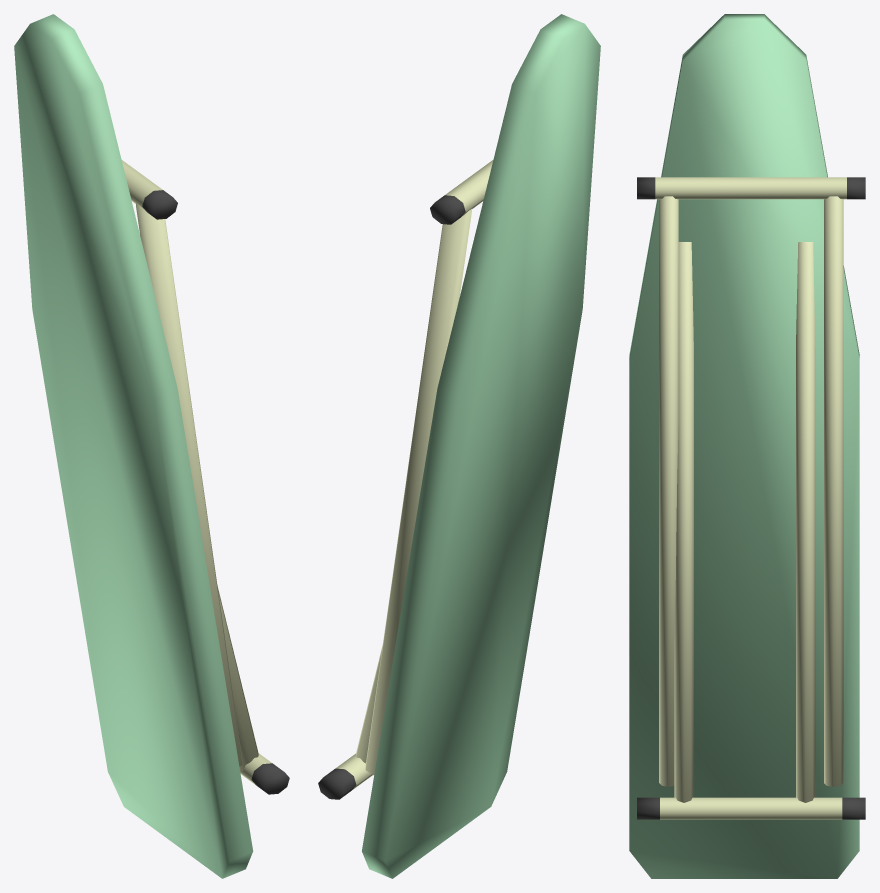
The model's file is K_Iron.glb.
The picture shows the model from 3 angles, left to right: view 1: azimuth 30°, elevation 25°; view 2: azimuth 150°, elevation 25°; view 3: azimuth 270°, elevation 25°; orthographic projection. The views are drawn at different scales.
Visible parts, largest first — view 1: Kitchen_Ironing; view 2: Kitchen_Ironing; view 3: Kitchen_Ironing.
Part boxes in pixels (<box>): Kitchen_Ironing: <box>14,14,289,878</box>; Kitchen_Ironing: <box>318,14,600,878</box>; Kitchen_Ironing: <box>629,14,865,878</box>.
Bounding box in the file's own units: 0.4576 × 1.93 × 0.5152.
